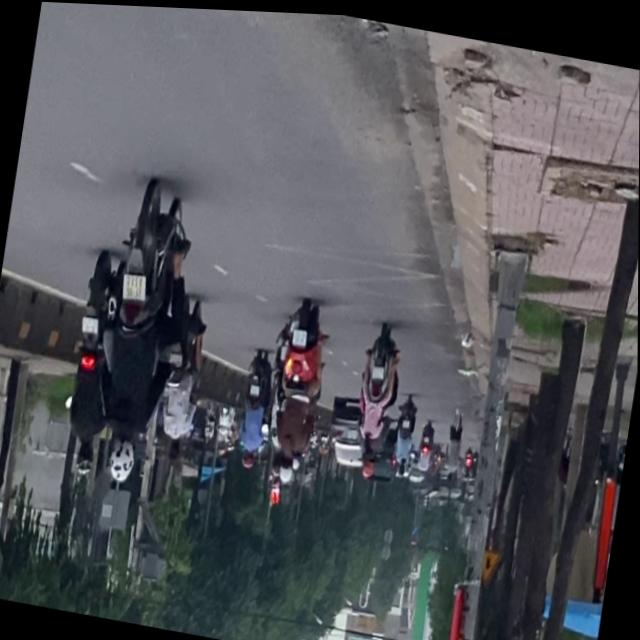helmet: (105, 433, 138, 484), (72, 441, 95, 477)
licenseplate: (82, 173, 202, 494), (56, 250, 130, 482)
nohelmet: (121, 273, 146, 303), (81, 316, 99, 335)
